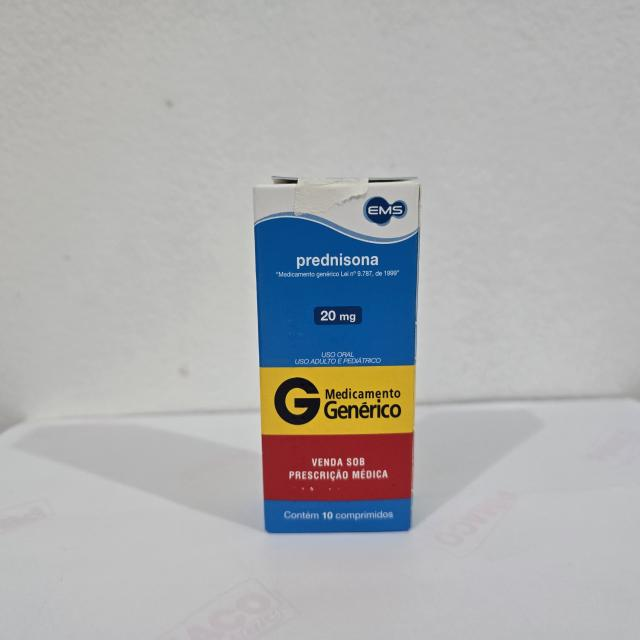prednisona: (247, 172, 425, 536)
